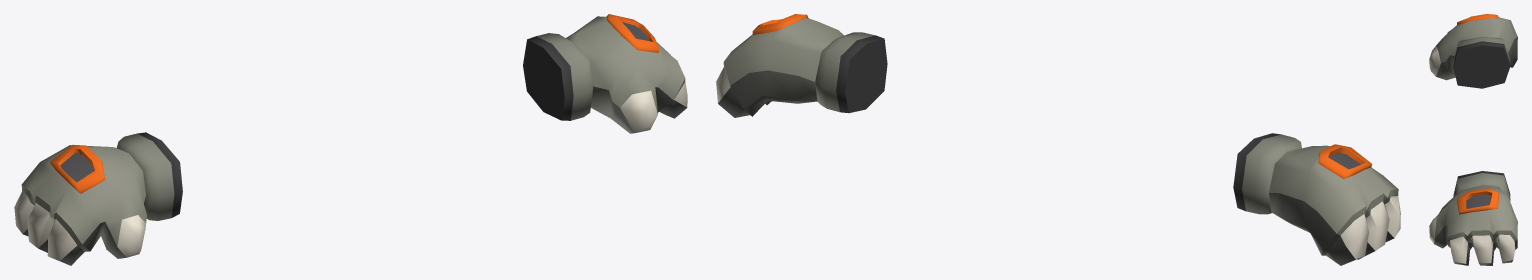
File: Glove_3.fbx
3 renders of one model, left to right at view 1: azimuth 30°, elevation 25°; view 2: azimuth 150°, elevation 25°; view 3: azimuth 270°, elevation 25°, orthographic. The views are drawn at different scales.
Visible parts, largest first — view 1: Glove_3; view 2: Glove_3; view 3: Glove_3.
Boxes of the visible parts, x1=… form: Glove_3: x1=14, y1=14, x2=687, y2=265; Glove_3: x1=716, y1=14, x2=1400, y2=265; Glove_3: x1=1429, y1=14, x2=1517, y2=265.
Size of the model in its own units: 139 by 19.82 by 24.7.
